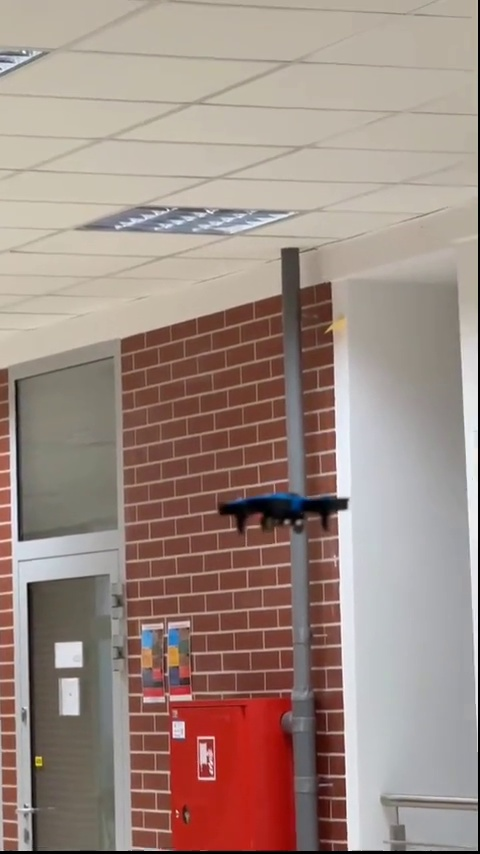drone: (224, 490, 352, 534)
